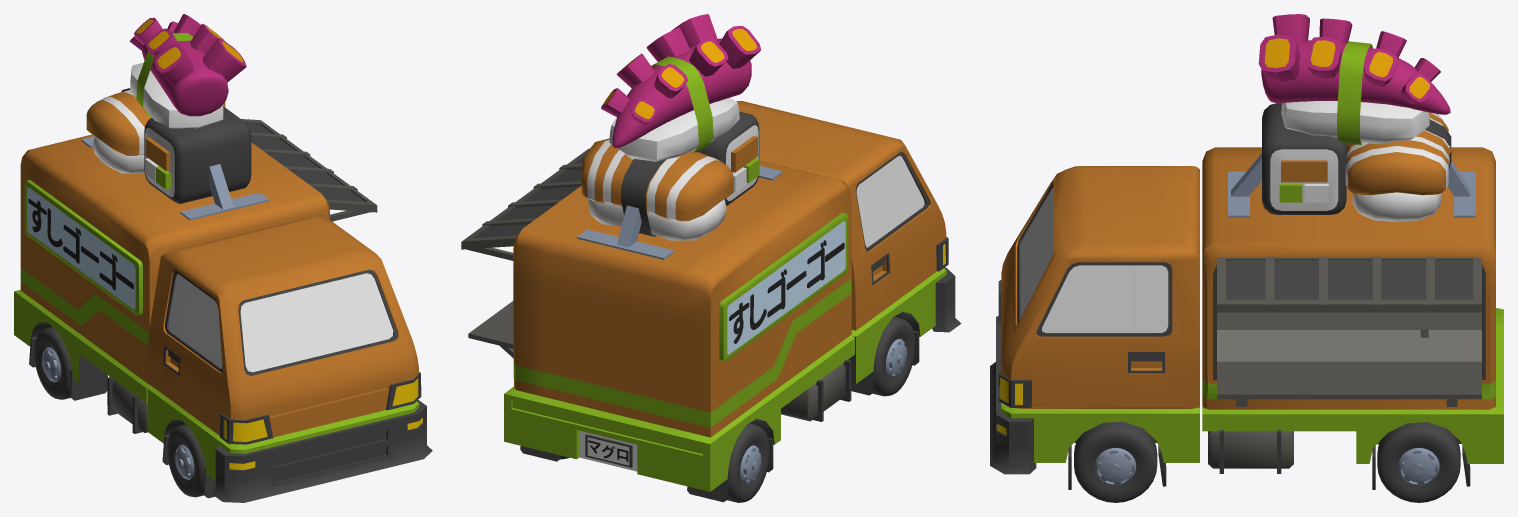
Rendered from Truck.fbx.
3 renders of one model, left to right at view 1: azimuth 30°, elevation 25°; view 2: azimuth 150°, elevation 25°; view 3: azimuth 270°, elevation 25°, orthographic. The views are drawn at different scales.
Parts seen in each view (by area): view 1: Truck; view 2: Truck; view 3: Truck.
Part boxes in pixels (x1,y1,x2,y2): Truck: (14, 14, 432, 502); Truck: (461, 14, 961, 502); Truck: (990, 14, 1503, 502).
Bounding box in the file's own units: 5.1 × 7.31 × 7.98.
3 materials, 1 textured.
